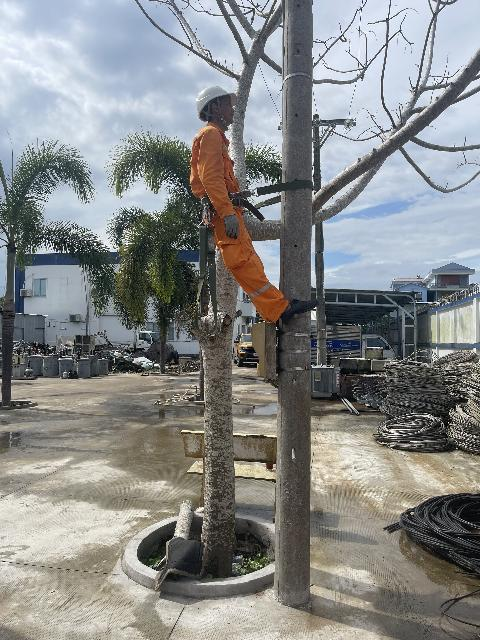gloves: (215, 213, 245, 241)
harness: (187, 183, 271, 210)
helmet: (188, 80, 238, 113)
shoes: (266, 288, 321, 324)
